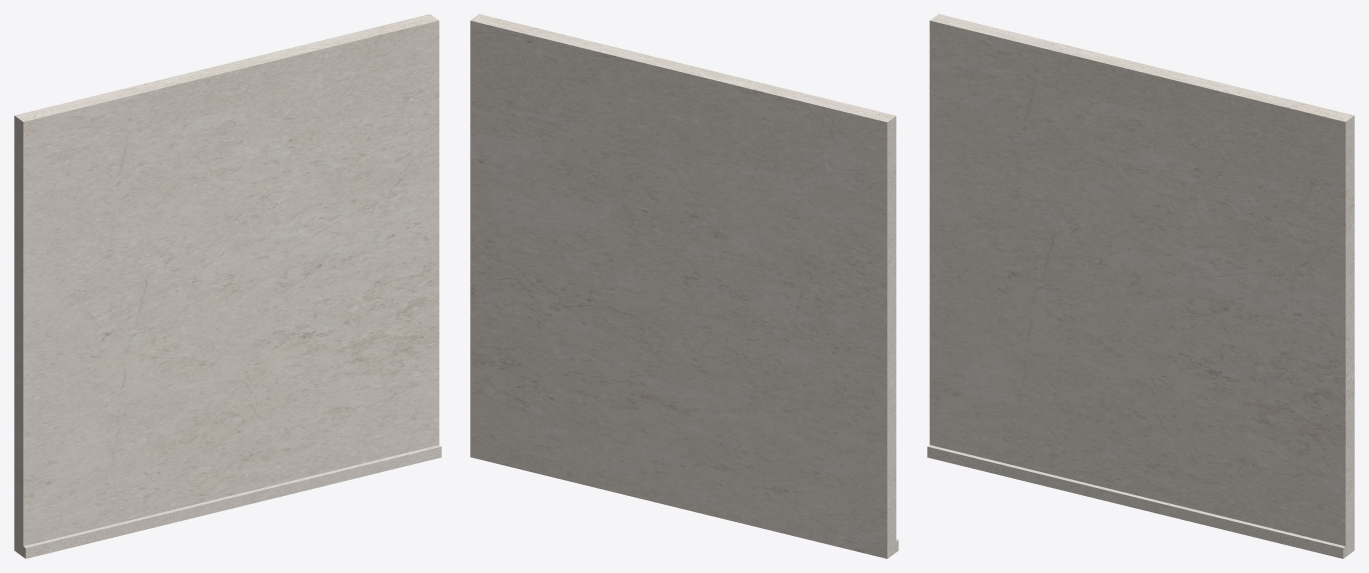
Rendered from Atelier_modular_wall.fbx.
3 renders of one model, left to right at view 1: azimuth 30°, elevation 25°; view 2: azimuth 150°, elevation 25°; view 3: azimuth 330°, elevation 25°, orthographic.
Parts seen in each view (by area): view 1: Atelier_modular_wall; view 2: Atelier_modular_wall; view 3: Atelier_modular_wall.
Part boxes in pixels (x1,y1,x2,y2): Atelier_modular_wall: (14,14,441,558); Atelier_modular_wall: (470,14,898,558); Atelier_modular_wall: (927,14,1354,558).
Bounding box in the file's own units: 400 × 400 × 19.
1 material, 1 textured.
